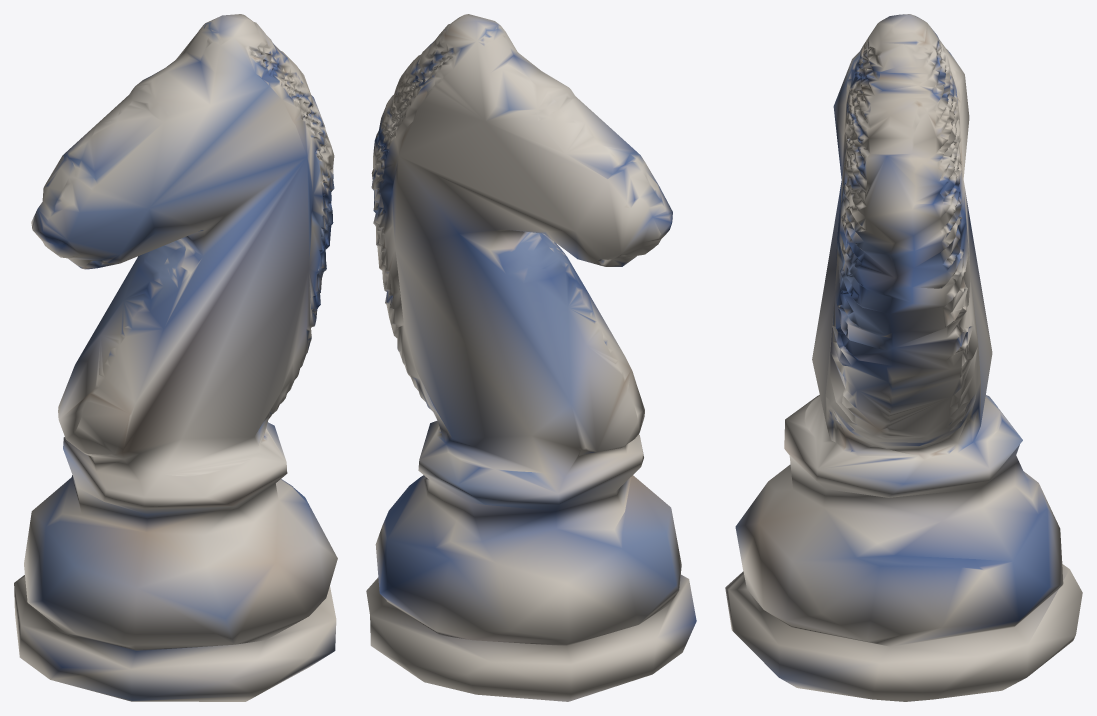
File: cobalt_vein_white_knight.glb
3 renders of one model, left to right at view 1: azimuth 30°, elevation 25°; view 2: azimuth 150°, elevation 25°; view 3: azimuth 270°, elevation 25°, orthographic. The views are drawn at different scales.
Visible parts, largest first — view 1: Cobalt Vein white knight; view 2: Cobalt Vein white knight; view 3: Cobalt Vein white knight.
Boxes of the visible parts, left/top/right/bottom form: Cobalt Vein white knight: left=14, top=14, right=337, bottom=701; Cobalt Vein white knight: left=366, top=14, right=696, bottom=701; Cobalt Vein white knight: left=725, top=14, right=1082, bottom=701.
Bounding box in the file's own units: 0.0352 × 0.0716 × 0.0354.
